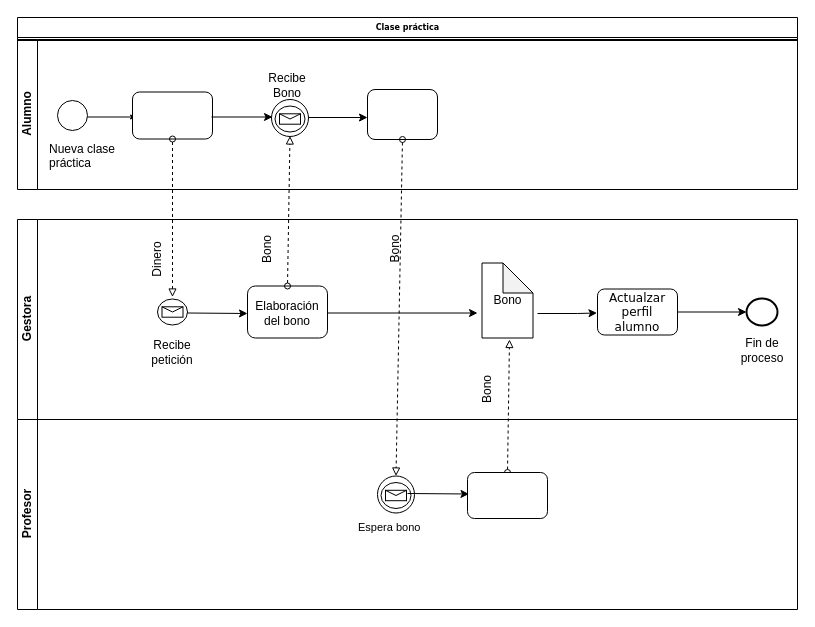
This 815x627 diagram has some shape labels left out. The centre of each missing label's shape, as x and y in pixels:
Comprar bono: the point at 172,115
Dar clase práctica: the point at 402,114
Sellar bono: the point at 507,495
